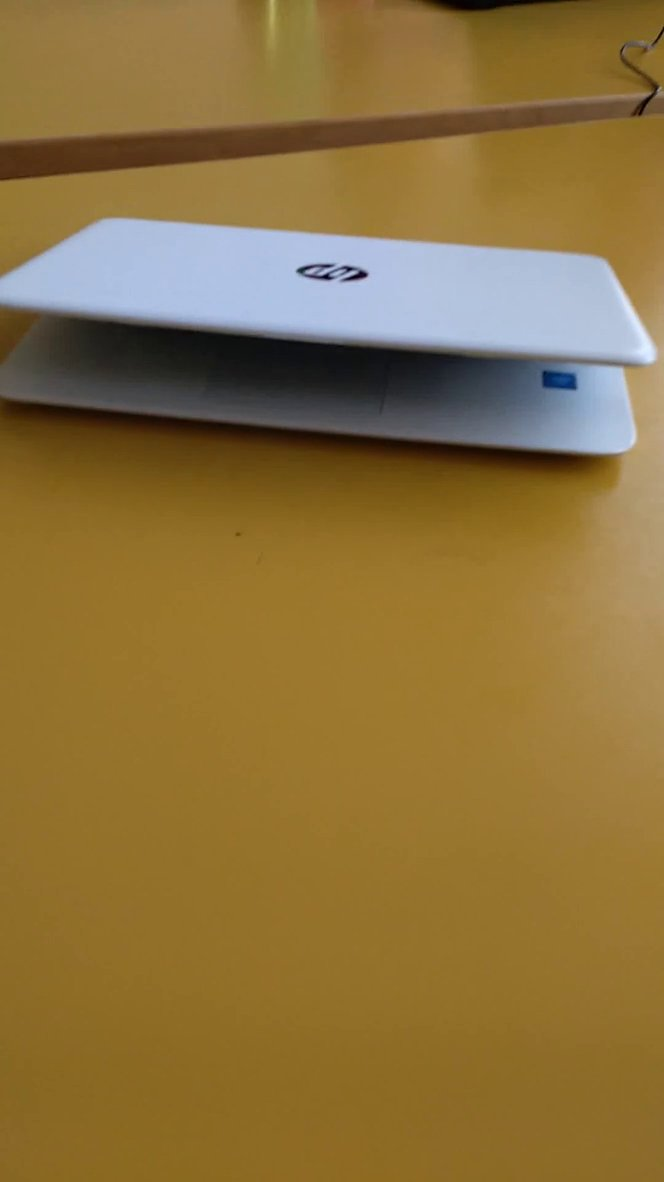laptop: (1, 197, 664, 484)
